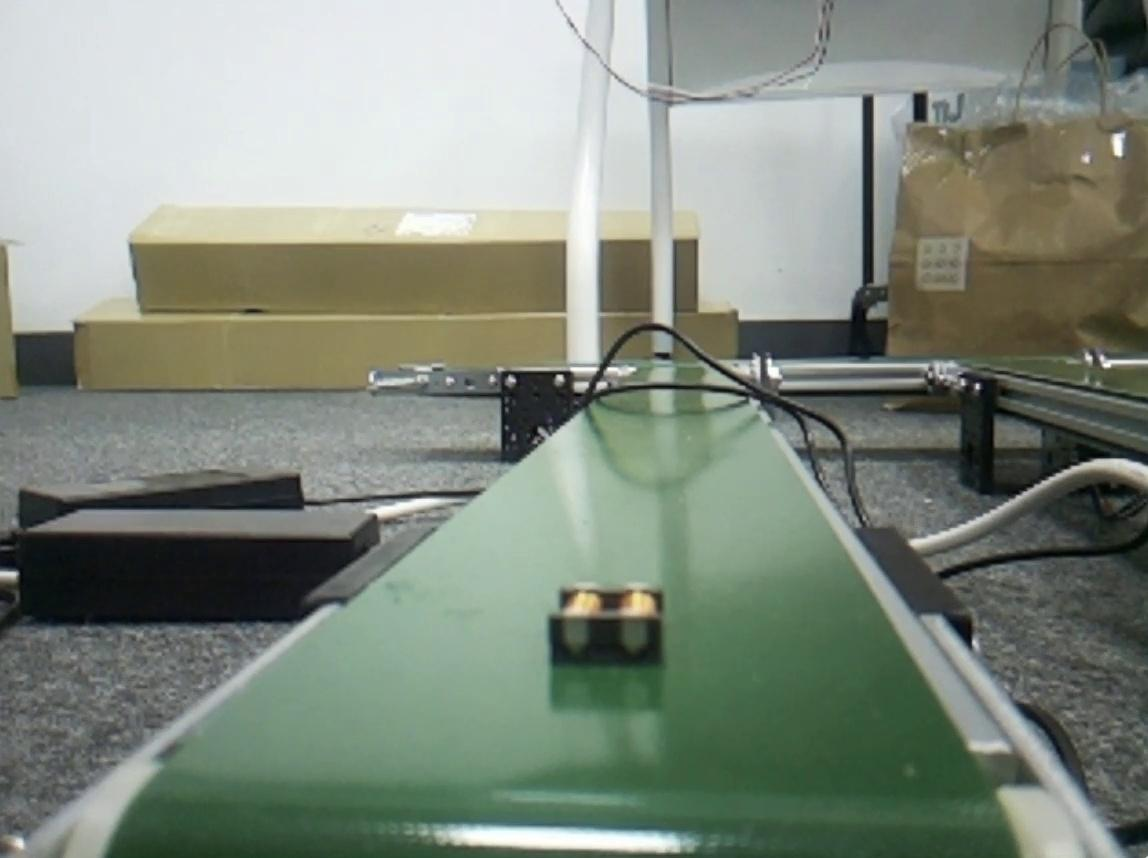inductor: (550, 588, 660, 658)
